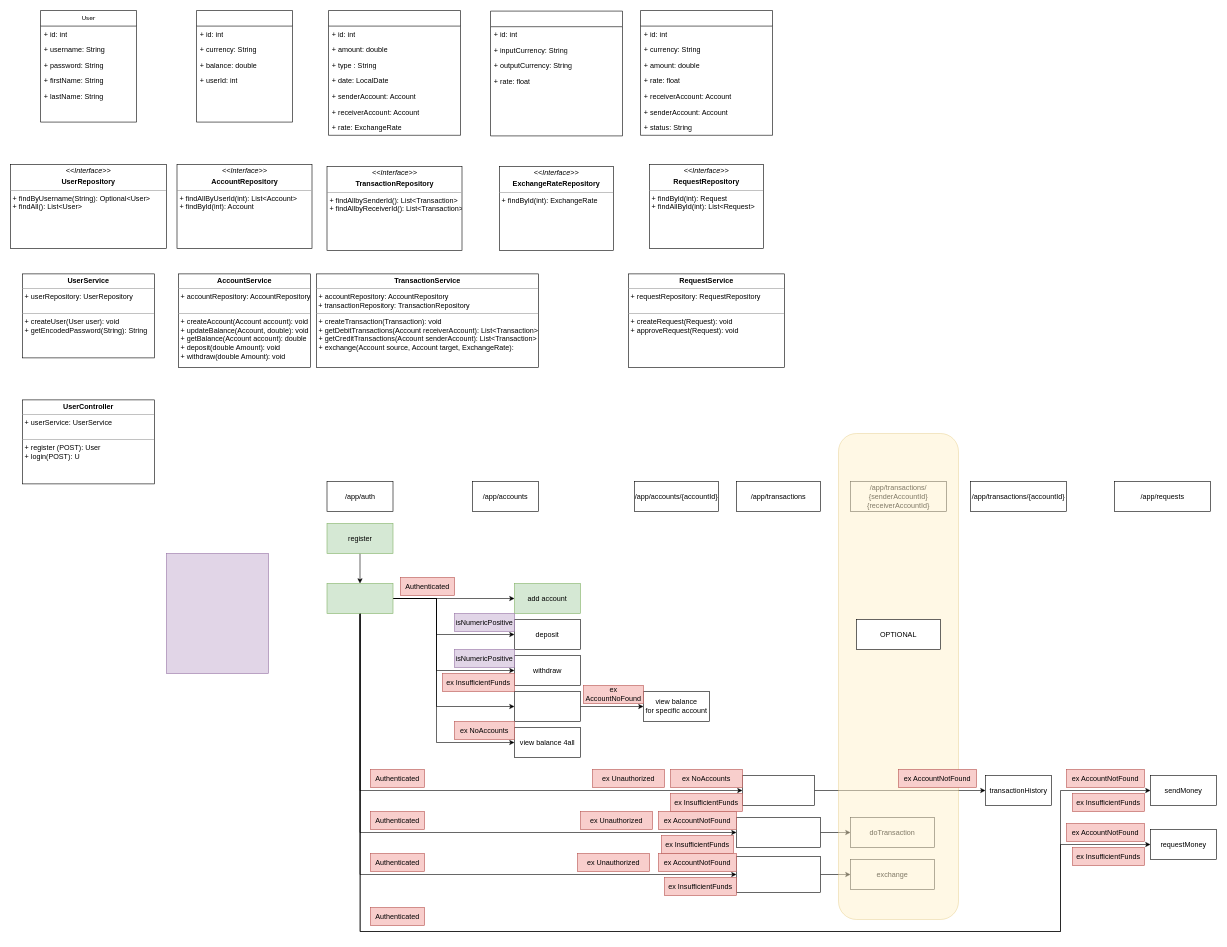
Some shapes in this 1227 by 947 pixel diagram are drawn without their labels. Here are the shapes that lost their labels. From the top down, the box of each, then its label:
(196, 10, 292, 122): Account
(328, 10, 460, 135): Transaction
(490, 10, 622, 136): ExchangeRates
(640, 10, 772, 135): Requests
(166, 553, 268, 674): validations
(326, 583, 393, 614): login
(514, 691, 580, 722): view specific balance
(742, 775, 814, 806): transactionHistory (for specific account)
(736, 817, 820, 848): createTransaction (2 accounts for 2 users)
(736, 856, 820, 892): exchange (2 accounts of same user) creates acc if not found
